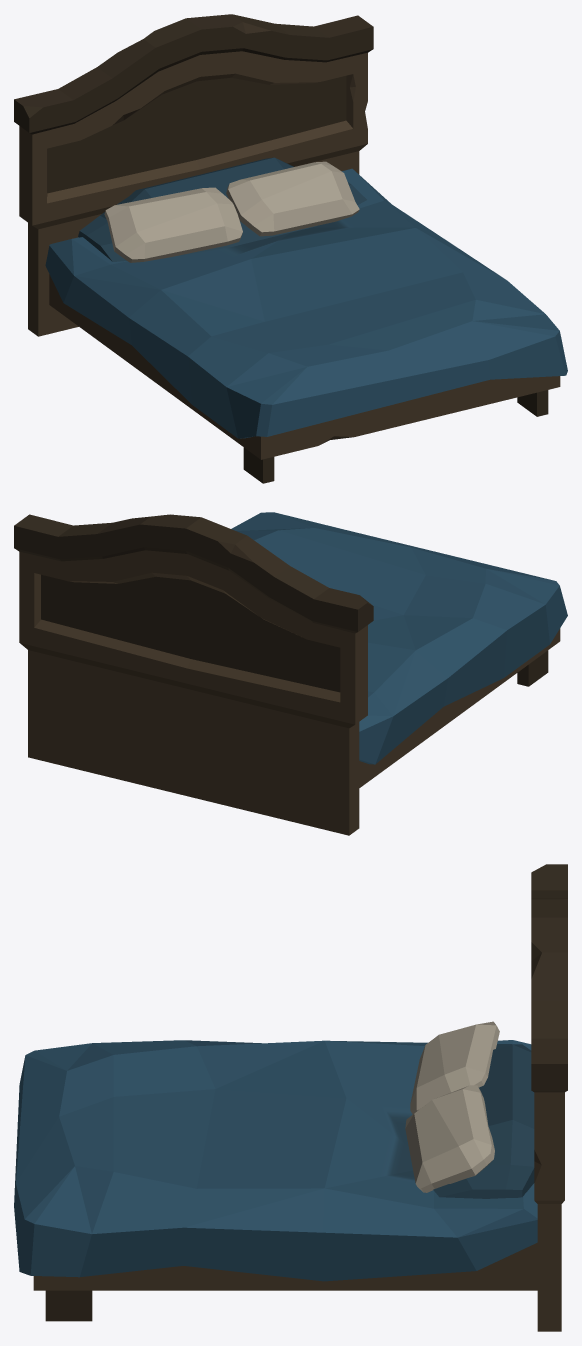
Rendered from SM_Prop_Bed_Big_01.fbx.
3 views of the same model, one above another, from view 1: azimuth 30°, elevation 25°; view 2: azimuth 150°, elevation 25°; view 3: azimuth 270°, elevation 25° (orthographic). The views are drawn at different scales.
Visible parts, largest first — view 1: SM_Prop_Bed_Big_01; view 2: SM_Prop_Bed_Big_01; view 3: SM_Prop_Bed_Big_01.
Part boxes in pixels (x1=…): SM_Prop_Bed_Big_01: x1=14, y1=14, x2=567, y2=483; SM_Prop_Bed_Big_01: x1=14, y1=512, x2=567, y2=835; SM_Prop_Bed_Big_01: x1=14, y1=864, x2=567, y2=1331.
Size of the model in its own units: 244 by 183 by 287.
